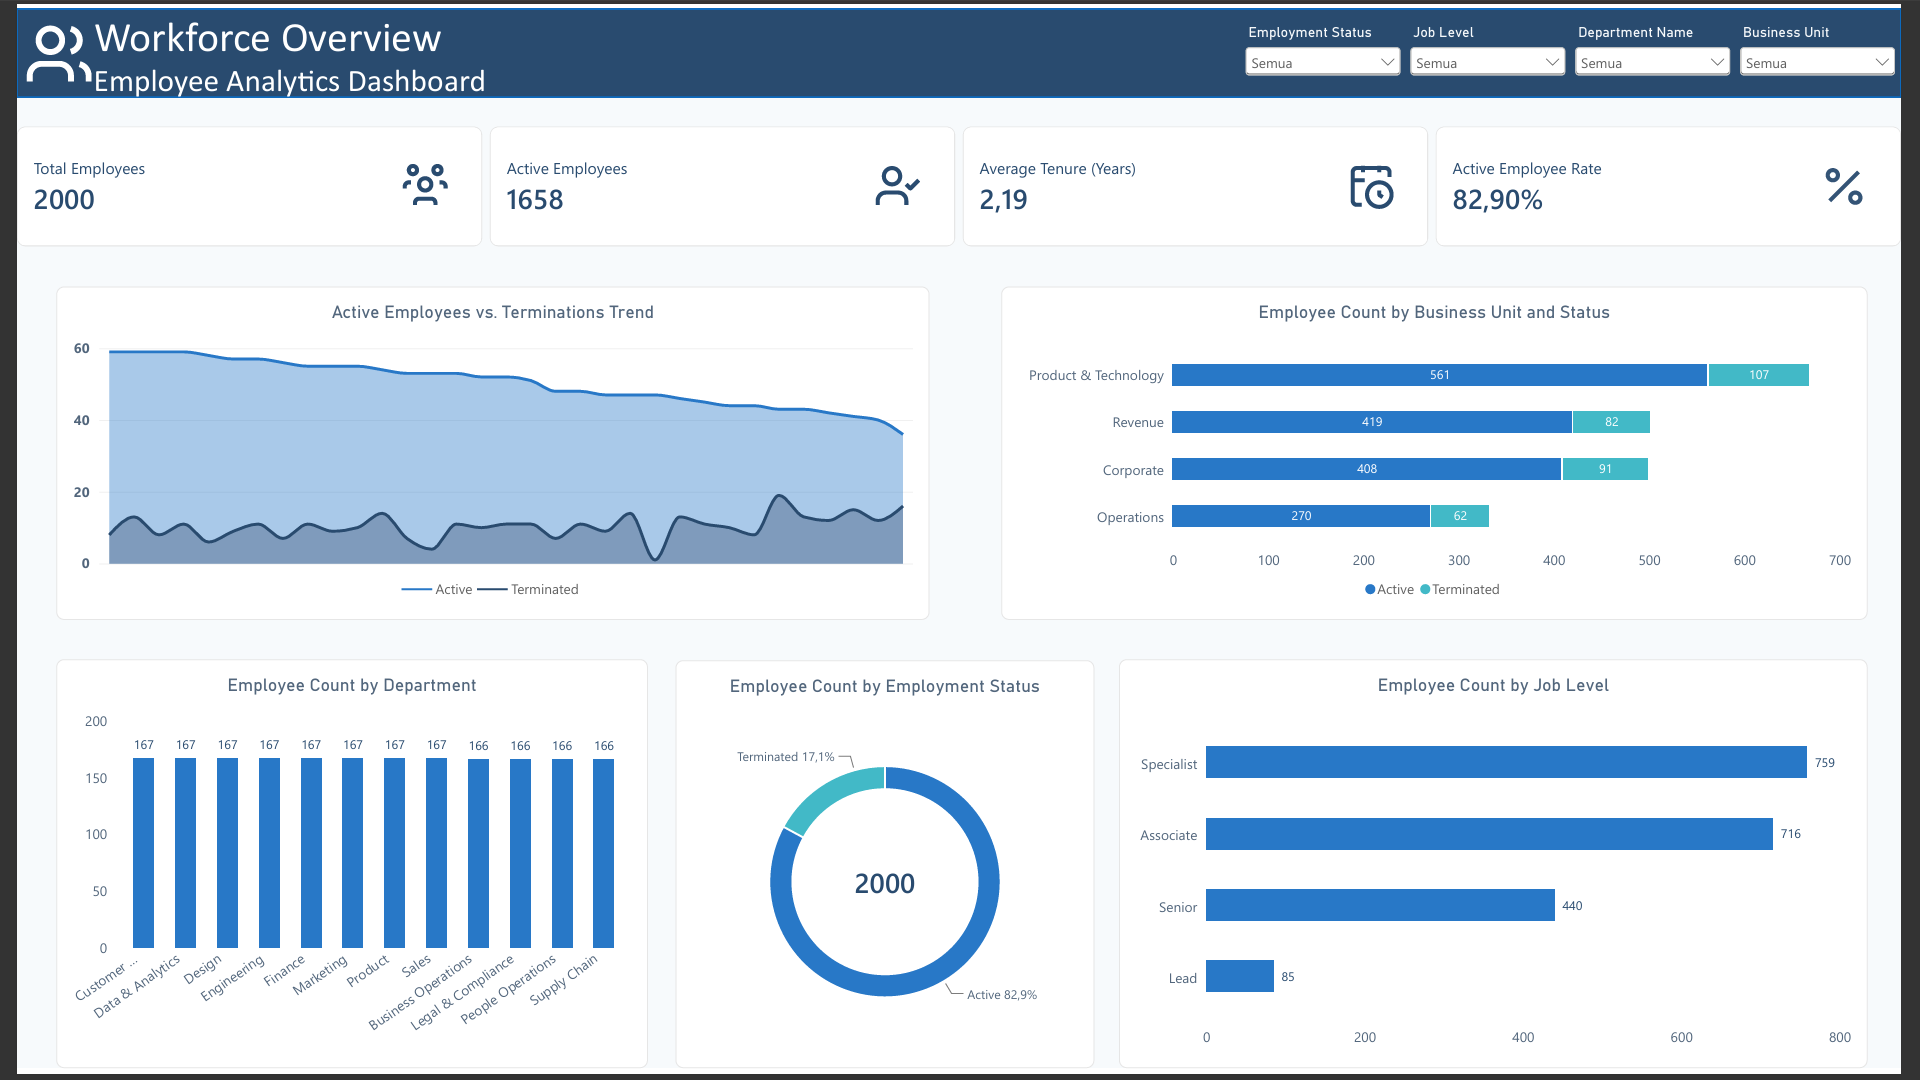

What the dashboard file says about the page in this screenshot:
{"tool":"powerbi","page":{"name":"Workforce Overview","canvas":[1920,1080],"ordinal":0},"visuals":[{"type":"cardVisual","fields":{"Data":["_DAX.Total Karyawan","_DAX.Karyawan Aktif","_DAX.Rata-rata Masa Kerja (Tahun)","_DAX.Persentase Aktif"]},"box":[0,120,1920,122.5],"z":0},{"type":"shape","box":[0,0,1920,90],"z":1000},{"type":"donutChart","title":"Employee Count by Employment Status","fields":{"Category":["employment_records.employment_status"],"Y":["Count(employment_records.employee_id)"]},"box":[670.9,664.4,427.1,416.3],"z":2000},{"type":"columnChart","title":"Employee Count by Department","fields":{"Category":["departments.department_name"],"Y":["CountNonNull(employment_records.employee_id)"]},"box":[40,663.3,603.3,416.7],"z":3000},{"type":"barChart","title":"Employee Count by Business Unit and Status","fields":{"Category":["departments.business_unit"],"Series":["employment_records.employment_status"],"Y":["CountNonNull(employment_records.employee_id)"]},"box":[1003.3,283.3,883.3,340],"z":4000},{"type":"barChart","title":"Employee Count by Job Level","fields":{"Category":["job_roles.job_level"],"Y":["CountNonNull(employment_records.employee_id)"]},"box":[1123.3,663.3,763.3,416.7],"z":5000},{"type":"areaChart","title":"Active Employees vs. Terminations Trend","fields":{"Category":["kalender.Tahun Bulan"],"Y":["_DAX.Karyawan Aktif","_DAX.Karyawan Keluar"]},"box":[40,283.3,890,340],"z":6000},{"type":"textbox","box":[78.3,1.7,451.7,106.7],"z":7000},{"type":"slicer","fields":{"Values":["departments.business_unit"]},"box":[1751.2,15.9,168.1,75],"z":8000},{"type":"slicer","fields":{"Values":["departments.department_name"]},"box":[1583.1,15.9,168.1,75],"z":9000},{"type":"slicer","fields":{"Values":["job_roles.job_level"]},"box":[1415,15.9,168.1,75],"z":10000},{"type":"slicer","title":"Status Karyawan","fields":{"Values":["employment_records.employment_status"]},"box":[1246.9,15.9,168.1,75],"z":11000},{"type":"image","box":[6.7,3.3,71.7,88.3],"z":12000}]}

Visuals, with their boxes in screenshot pixels (x1, y1, x2, y2), scaled from the page's 1920x1080 canvas onto the 1920x1080 screenshot:
cardVisual - _DAX.Total Karyawan x _DAX.Karyawan Aktif: 0 120 1919 242
shape: 0 0 1919 90
"Employee Count by Employment Status" donutChart: 671 664 1098 1079
"Employee Count by Department" columnChart: 40 663 643 1079
"Employee Count by Business Unit and Status" barChart: 1003 283 1887 623
"Employee Count by Job Level" barChart: 1123 663 1887 1079
"Active Employees vs. Terminations Trend" areaChart: 40 283 930 623
textbox: 78 2 530 108
slicer - departments.business_unit: 1751 16 1919 91
slicer - departments.department_name: 1583 16 1751 91
slicer - job_roles.job_level: 1415 16 1583 91
"Status Karyawan" slicer: 1247 16 1415 91
image: 7 3 78 92
